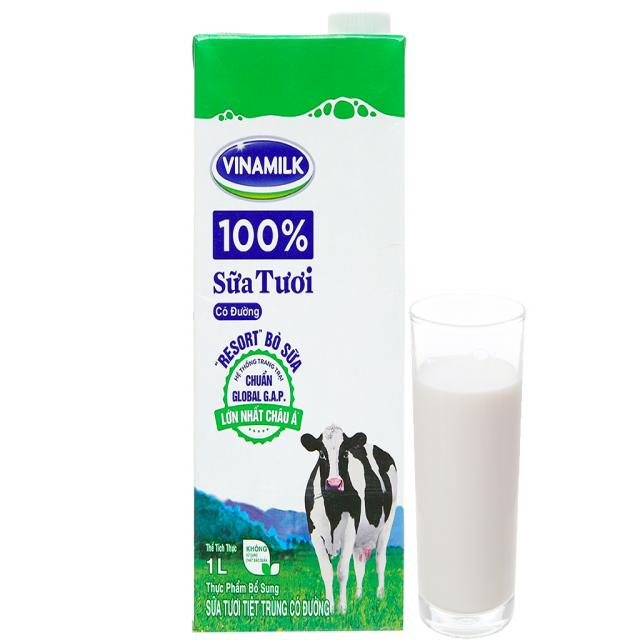non_white_jug: (182, 9, 420, 630)
